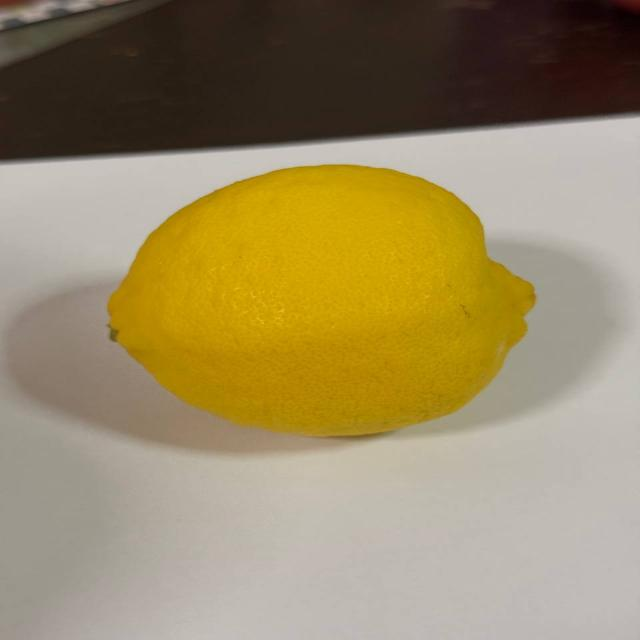lemon: (98, 156, 540, 446)
